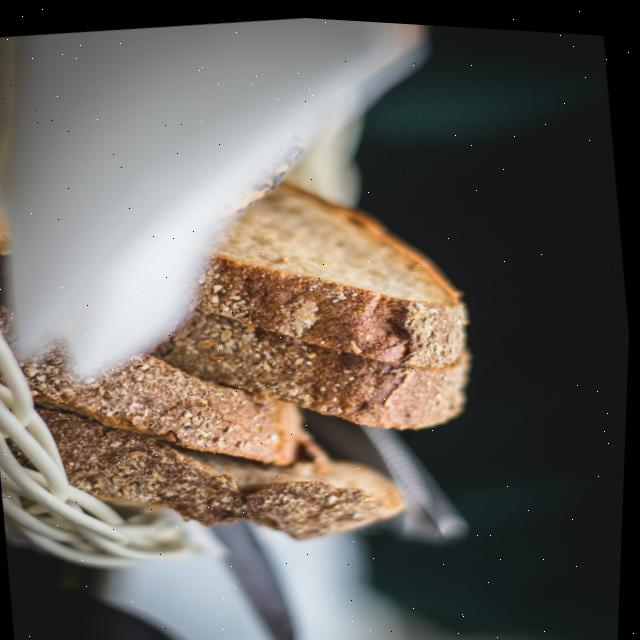Bread: (200, 181, 468, 362), (156, 308, 471, 424), (25, 349, 304, 461)
